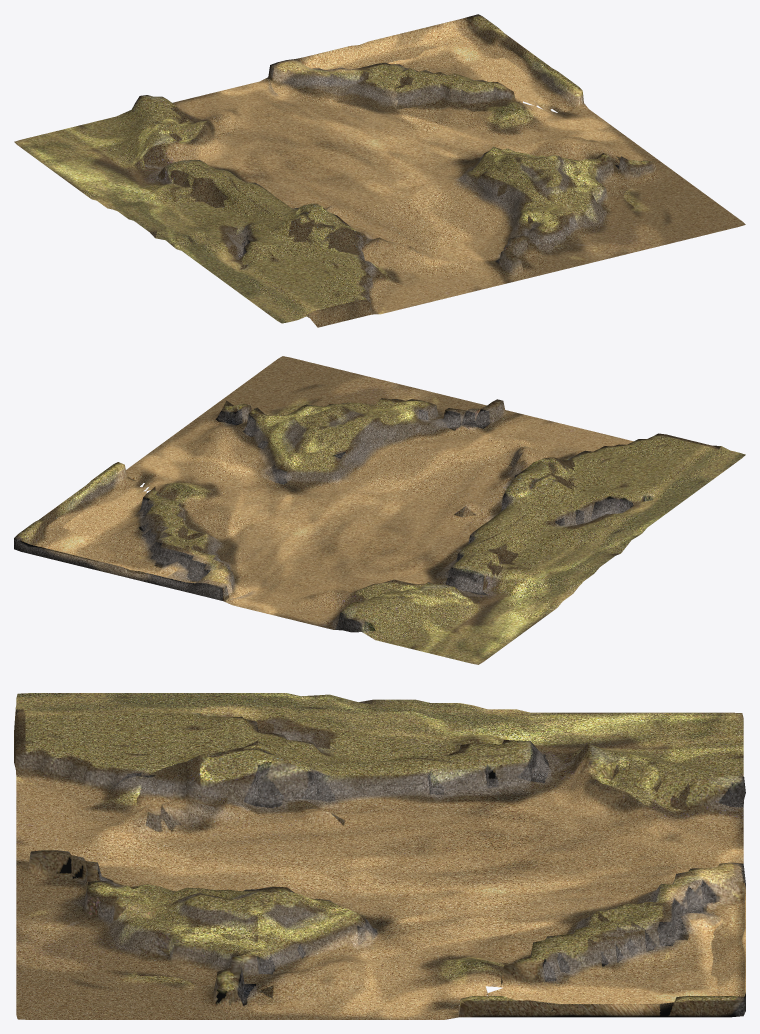
Rendered from map.fbx.
The picture shows the model from 3 angles, top to bottom: view 1: azimuth 30°, elevation 25°; view 2: azimuth 150°, elevation 25°; view 3: azimuth 270°, elevation 25°; orthographic projection. The views are drawn at different scales.
Visible parts, largest first — view 1: Plane; view 2: Plane; view 3: Plane.
Boxes of the visible parts, bbox=[...] form: Plane: bbox=[14, 14, 745, 327]; Plane: bbox=[14, 356, 745, 664]; Plane: bbox=[14, 693, 745, 1019].
Bounding box in the file's own units: 19935 × 1382 × 20002.
